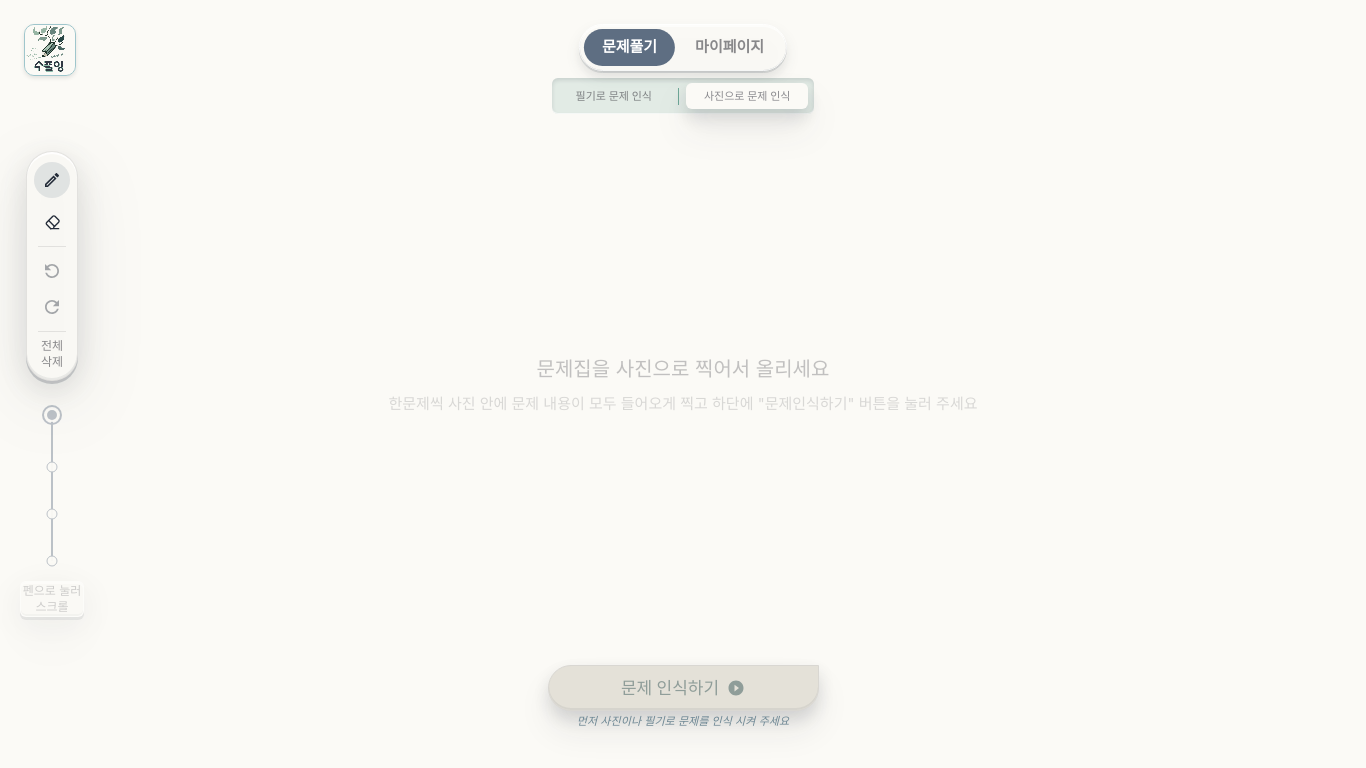
Scenario: SolvePencilcanvasPage — 사진/필기 입력 토글(InputModeToggle, Figma 342-833, 오너 UX 결정) › '사진으로 문제 인식'만 누르면 /camera로 이동하지 않고 메뉴만 열린다
This screenshot has width=1366, height=768.
Click the button "사진으로 문제 인식" at (747, 96), box [686,83,808,109]
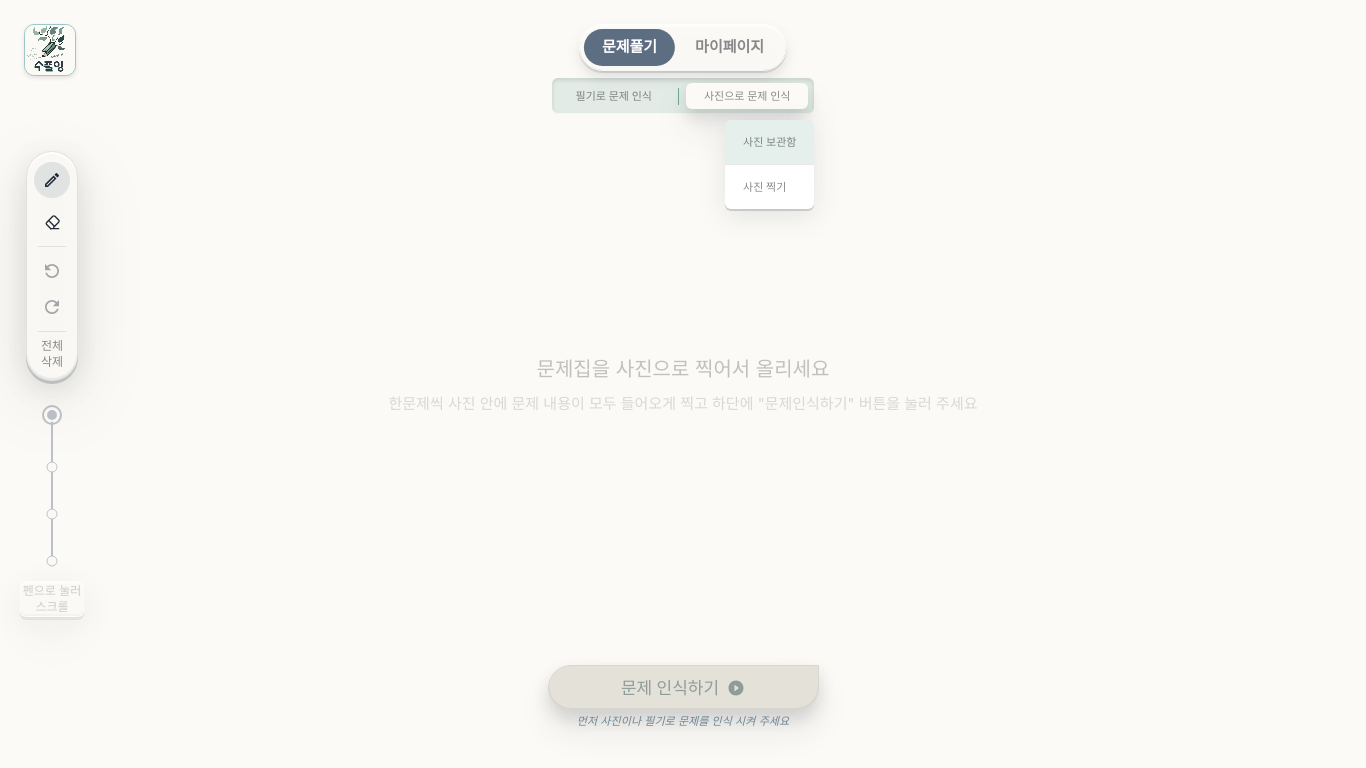
Now the menu items read "사진 보관함", "사진 찍기", in this order, box [725,120,814,164]; [725,165,814,209]
